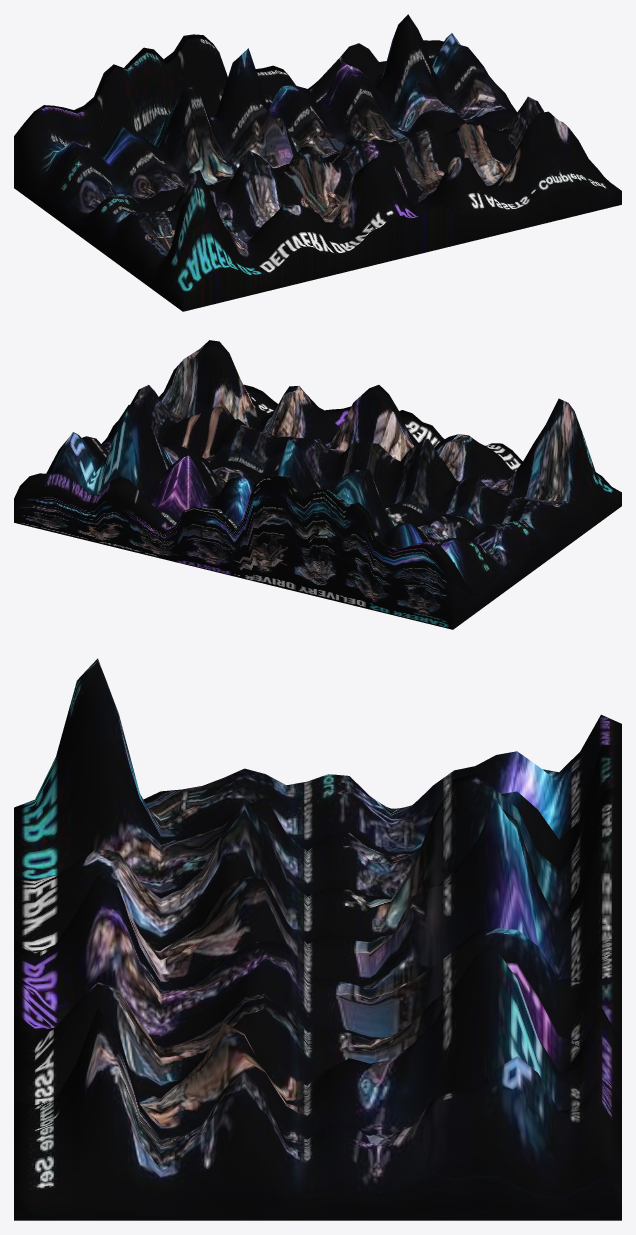
Rendered from CAREER_02_Poster_21.glb.
3 views of the same model, one above another, from view 1: azimuth 30°, elevation 25°; view 2: azimuth 150°, elevation 25°; view 3: azimuth 270°, elevation 25° (orthographic). The views are drawn at different scales.
Parts seen in each view (by area): view 1: CAREER_02_Poster_21; view 2: CAREER_02_Poster_21; view 3: CAREER_02_Poster_21.
Part boxes in pixels (x1,y1,x2,y2): CAREER_02_Poster_21: (14, 14, 621, 311); CAREER_02_Poster_21: (14, 340, 621, 629); CAREER_02_Poster_21: (14, 658, 621, 1220).
Bounding box in the file's own units: 2 × 0.51 × 1.33.
1 material, 1 textured.
